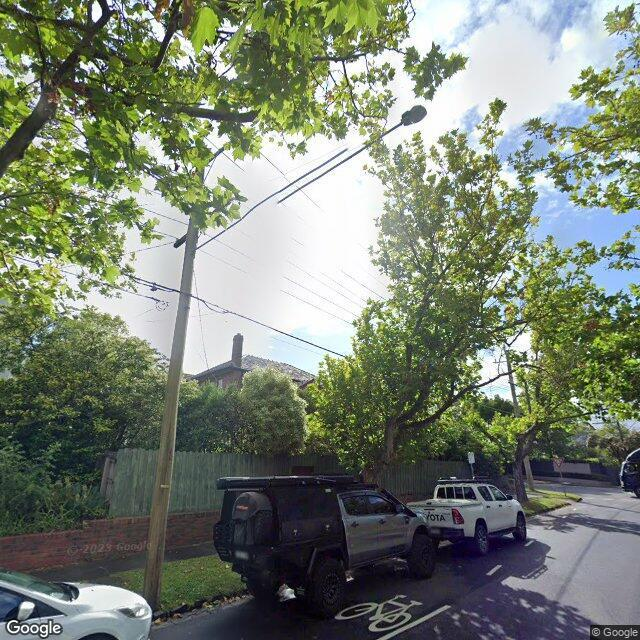crossarm: (493, 359, 527, 364)
streetlight: (195, 103, 428, 251), (141, 150, 206, 610)
timber-pole: (506, 349, 536, 490)
